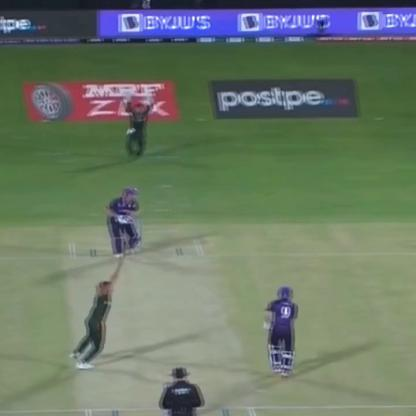pitch: (58, 233, 254, 416)
